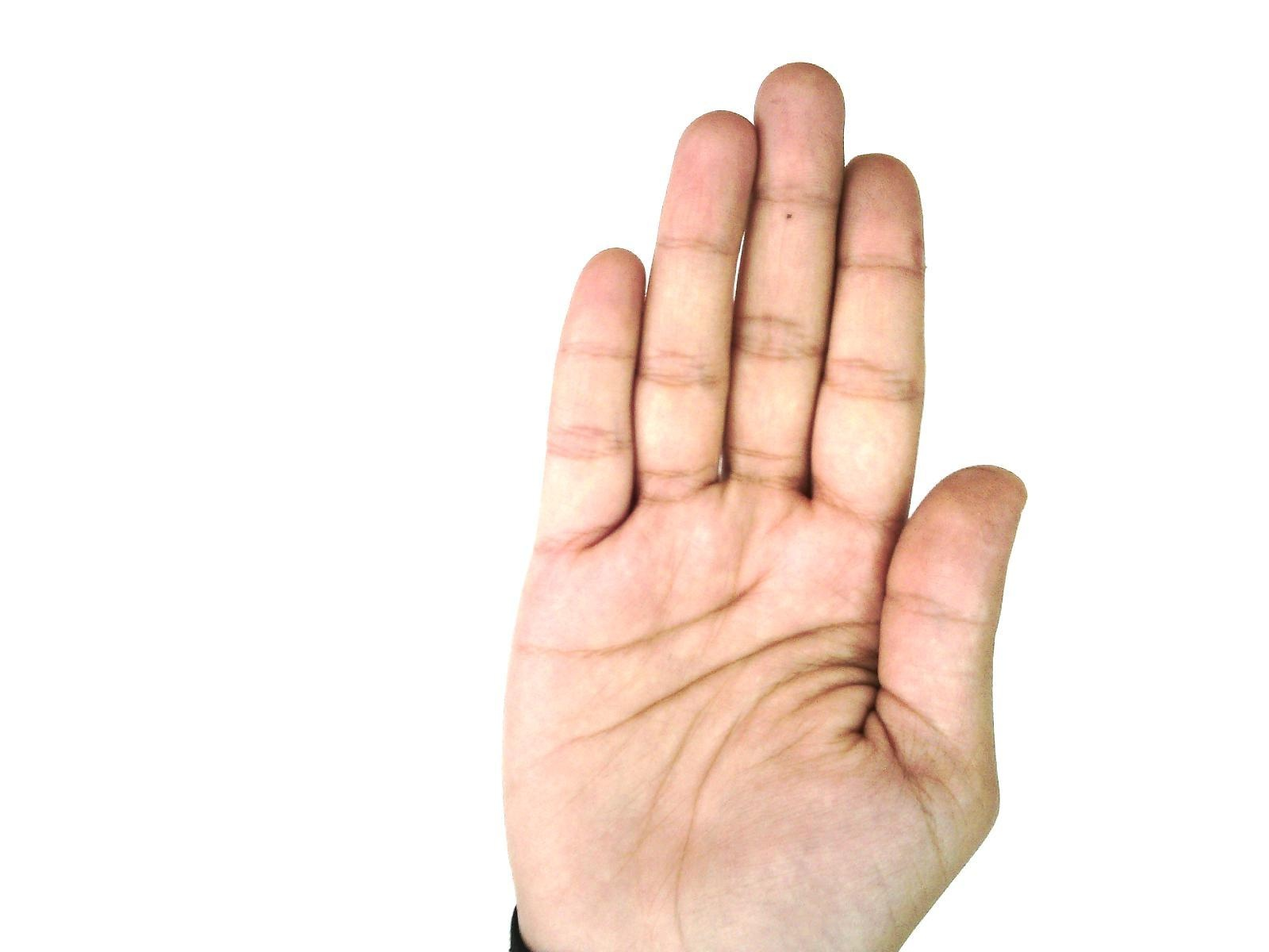open_palm: (497, 61, 1030, 951)
